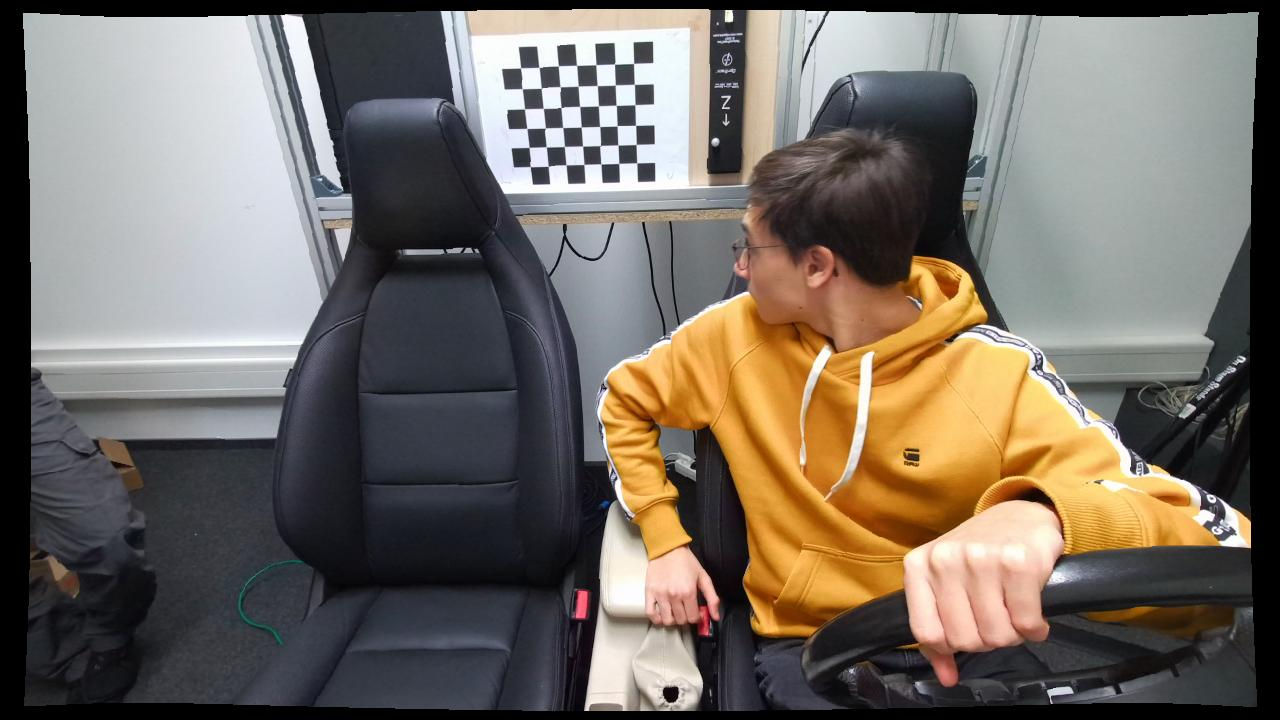Distracted: (587, 110, 1090, 712)
